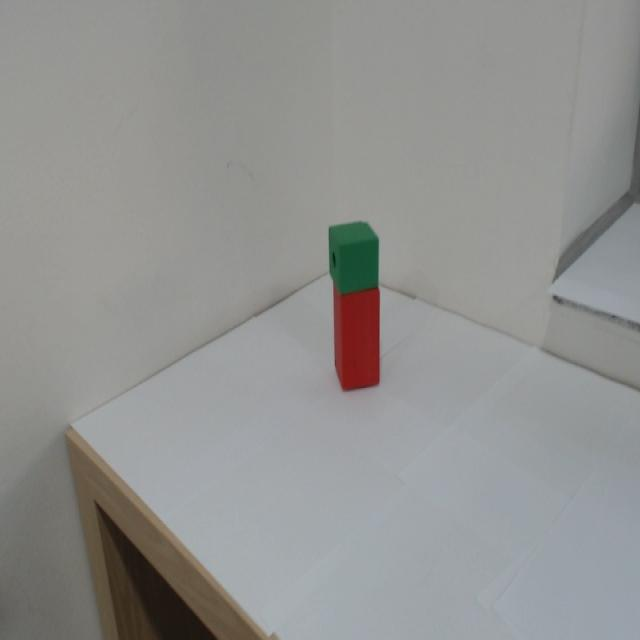cube: (331, 223, 382, 290)
